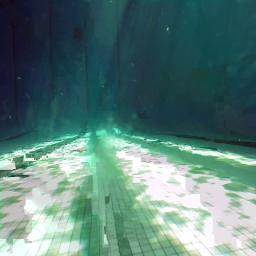Full: (137, 109, 149, 121)
